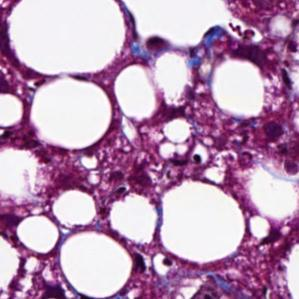inflammation: (257, 113, 296, 160), (144, 31, 176, 63)
